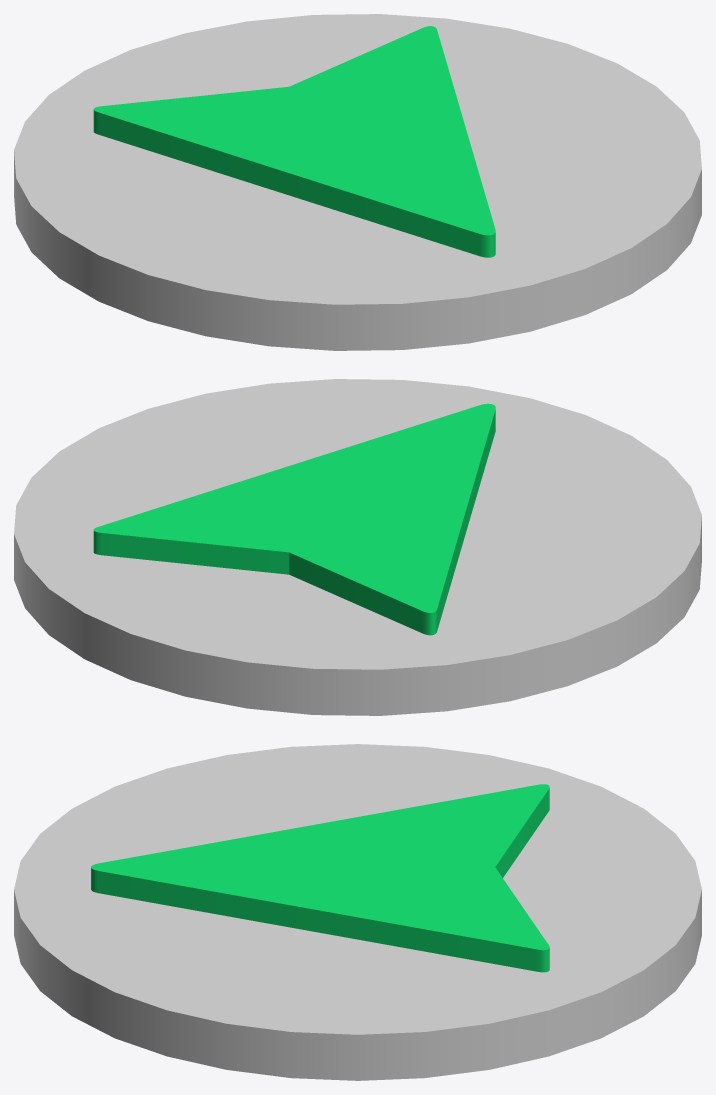
File: PlayerIcon.fbx
3 views of the same model, one above another, from view 1: azimuth 30°, elevation 25°; view 2: azimuth 150°, elevation 25°; view 3: azimuth 270°, elevation 25° (orthographic).
Visible parts, largest first — view 1: Circle, Cube; view 2: Circle, Cube; view 3: Circle, Cube.
Boxes of the visible parts, x1,y1,x2,y2 form: Circle: [14, 14, 701, 350]; Cube: [93, 26, 495, 257]; Circle: [14, 379, 701, 715]; Cube: [93, 403, 495, 635]; Circle: [14, 744, 701, 1080]; Cube: [91, 784, 549, 972].
Size of the model in its own units: 200 by 21.93 by 200.
